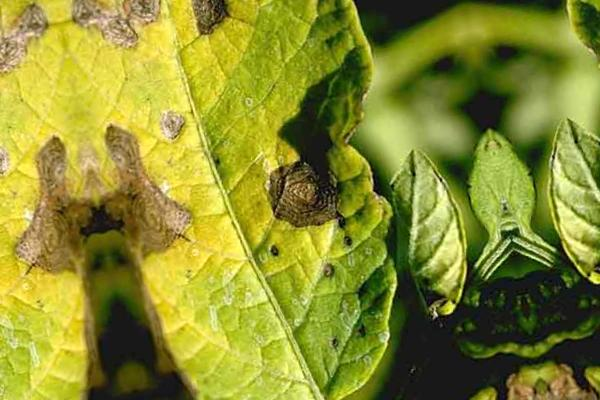Tomato Early blight leaf: (53, 0, 446, 400)
